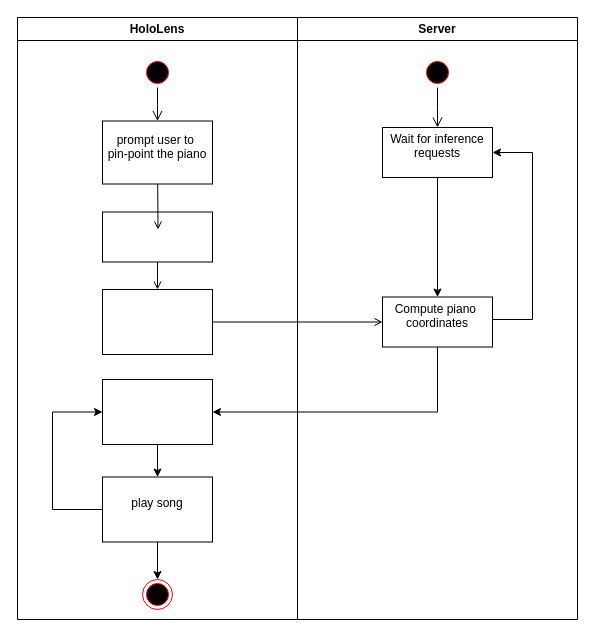
The diagram is 595 pixels wide and 637 high, and some of its shapes have lost their labels. The centre of each missing label's shape, as x and y in pixels:
"select song" goes at (x=157, y=411).
"send the picture to server for inference" goes at (x=157, y=321).
"take picture" goes at (x=157, y=236).
